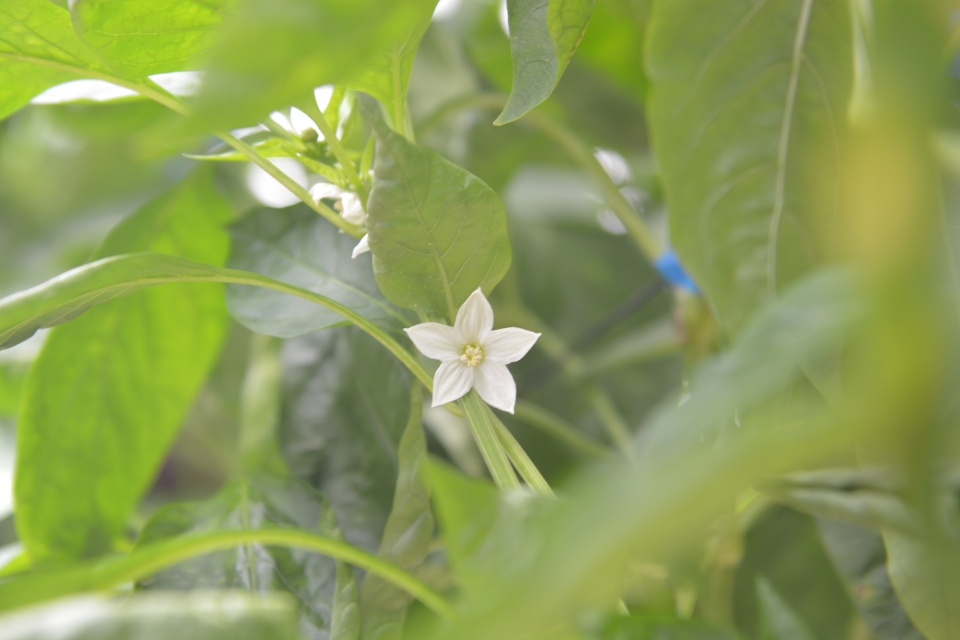flower: (400, 285, 544, 417), (307, 165, 381, 234)
